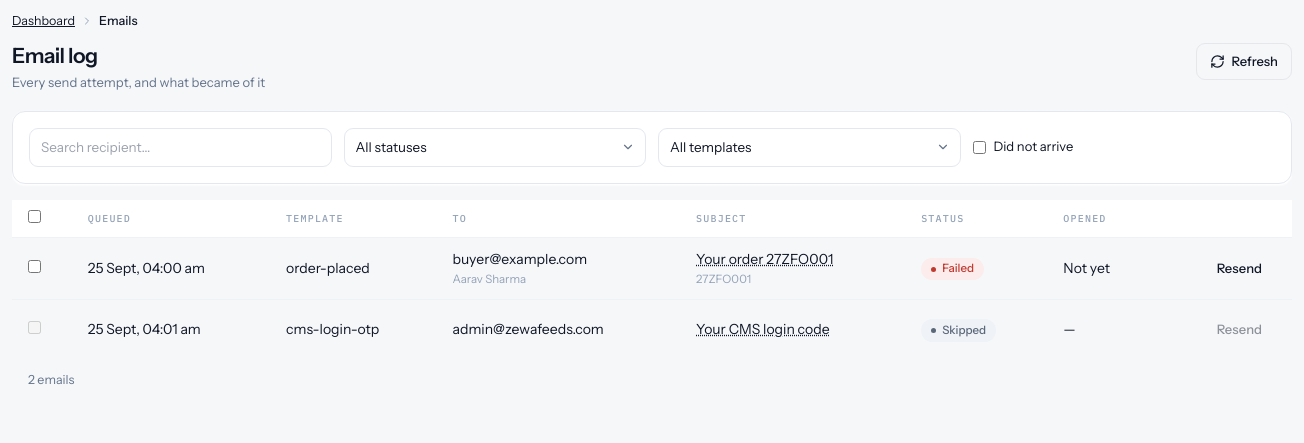
Test case: the log › shows a failed row with the provider's own error when expanded
Step 1. Click the button "Your order 27ZFO001" → coordinates (765, 259), box [696, 249, 833, 270]
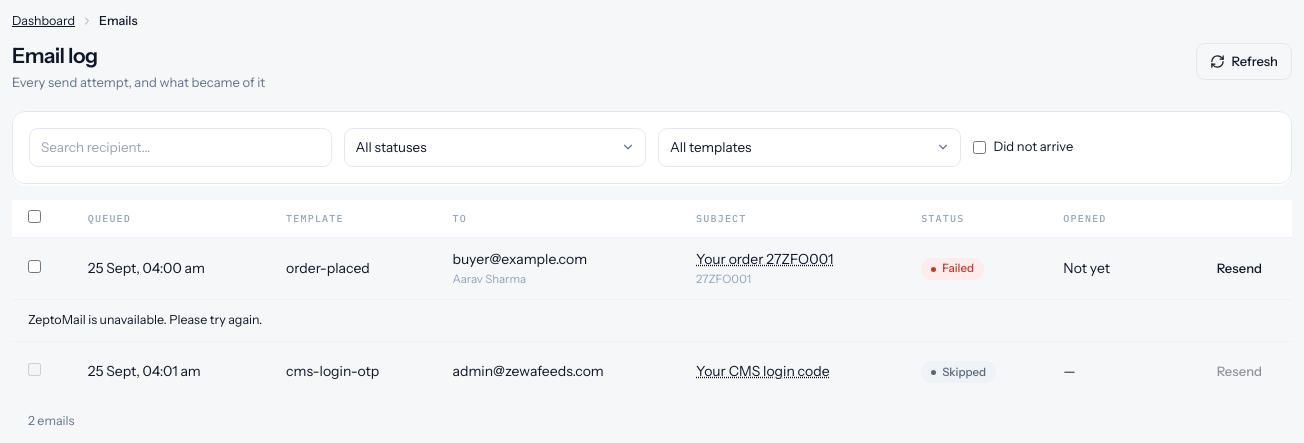
Expected: the text "ZeptoMail is unavailable. Please try again." is shown, [28, 312, 262, 327]
